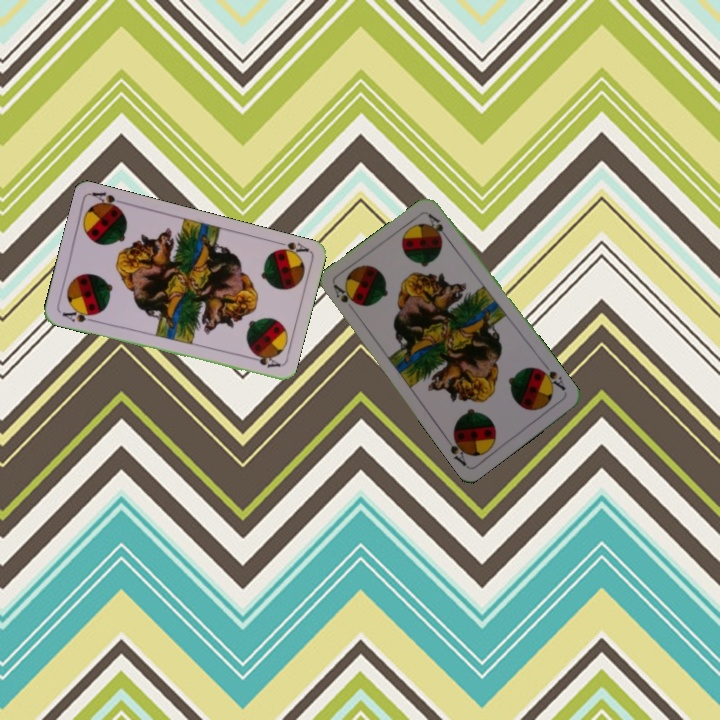SA: (535, 360, 568, 393), (269, 237, 311, 260), (329, 280, 361, 309), (58, 305, 99, 325)
